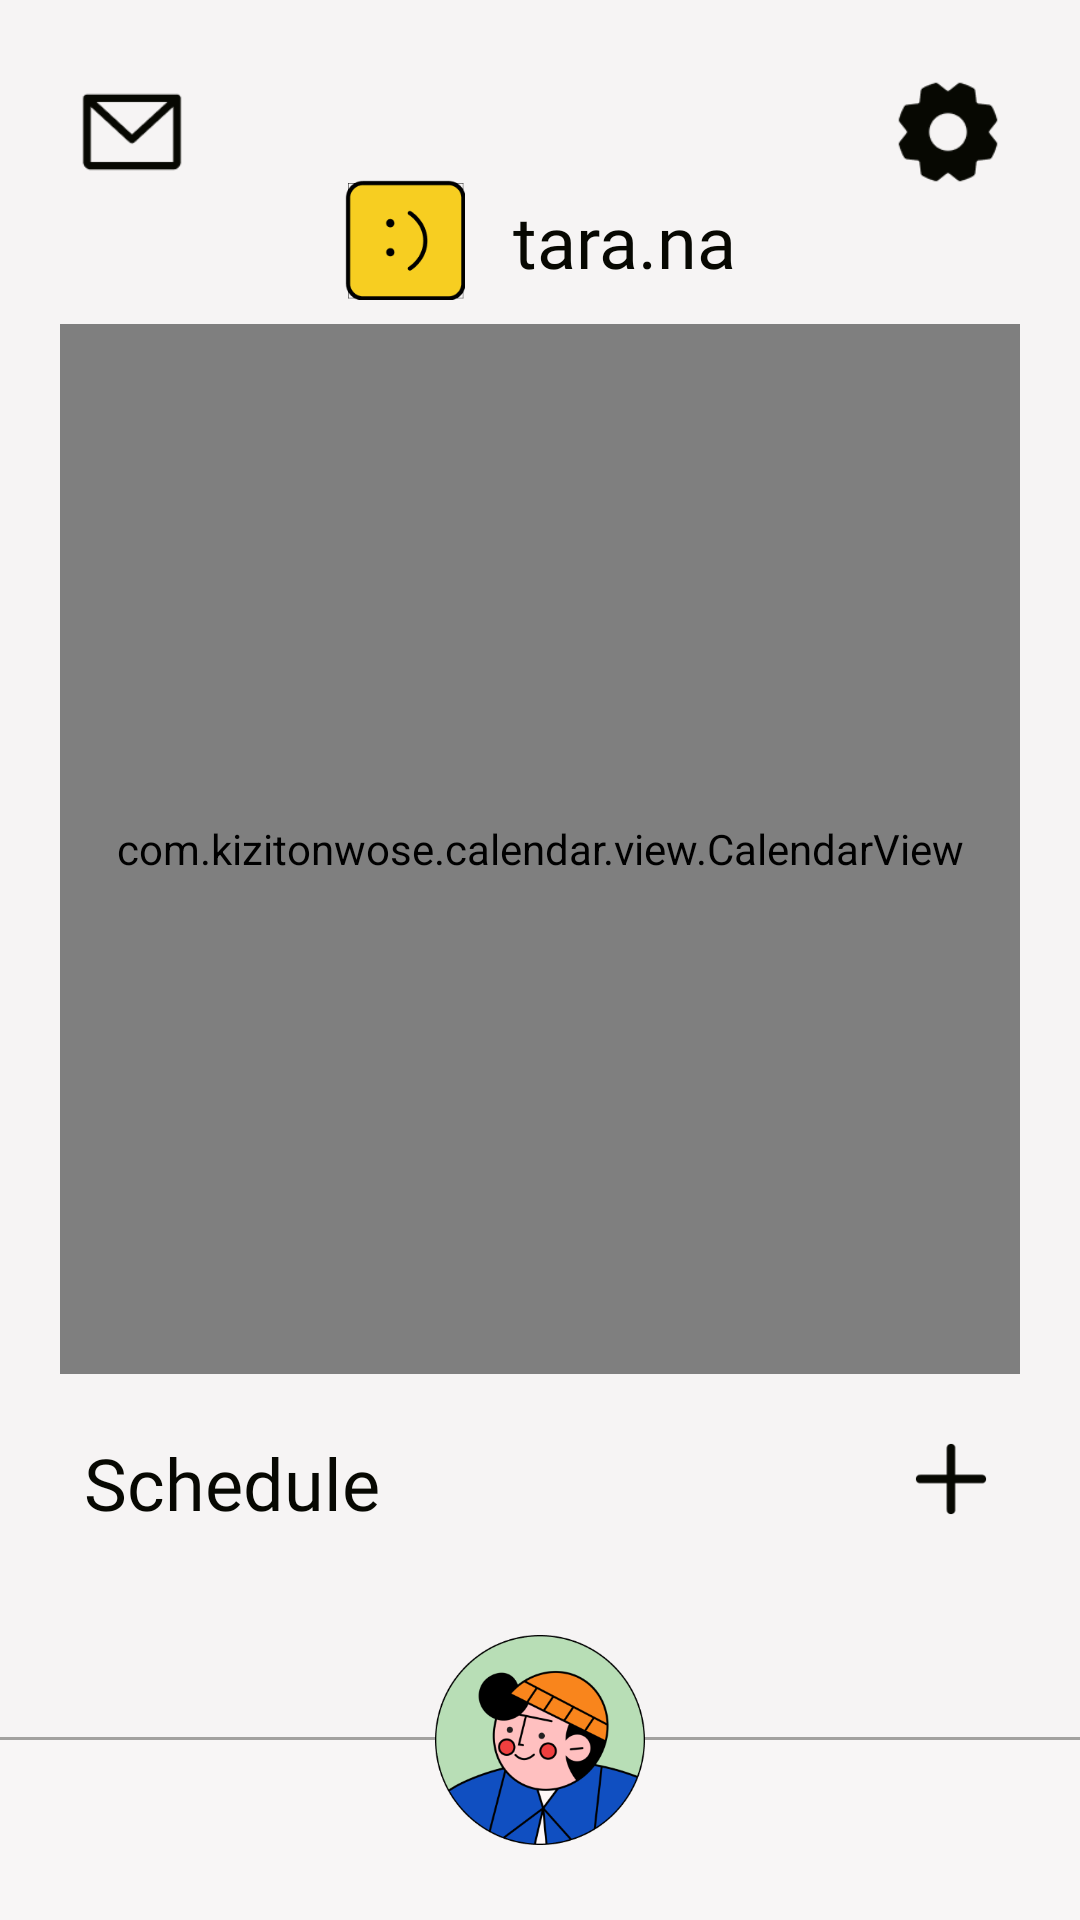

Screen size 1080 × 1920. Icon name, then its box in pixels as (x1, y1, x2, y2):
add: (916, 1444, 986, 1514)
inbox: (82, 93, 182, 171)
profile: (435, 1635, 645, 1845)
settings: (898, 82, 998, 182)
